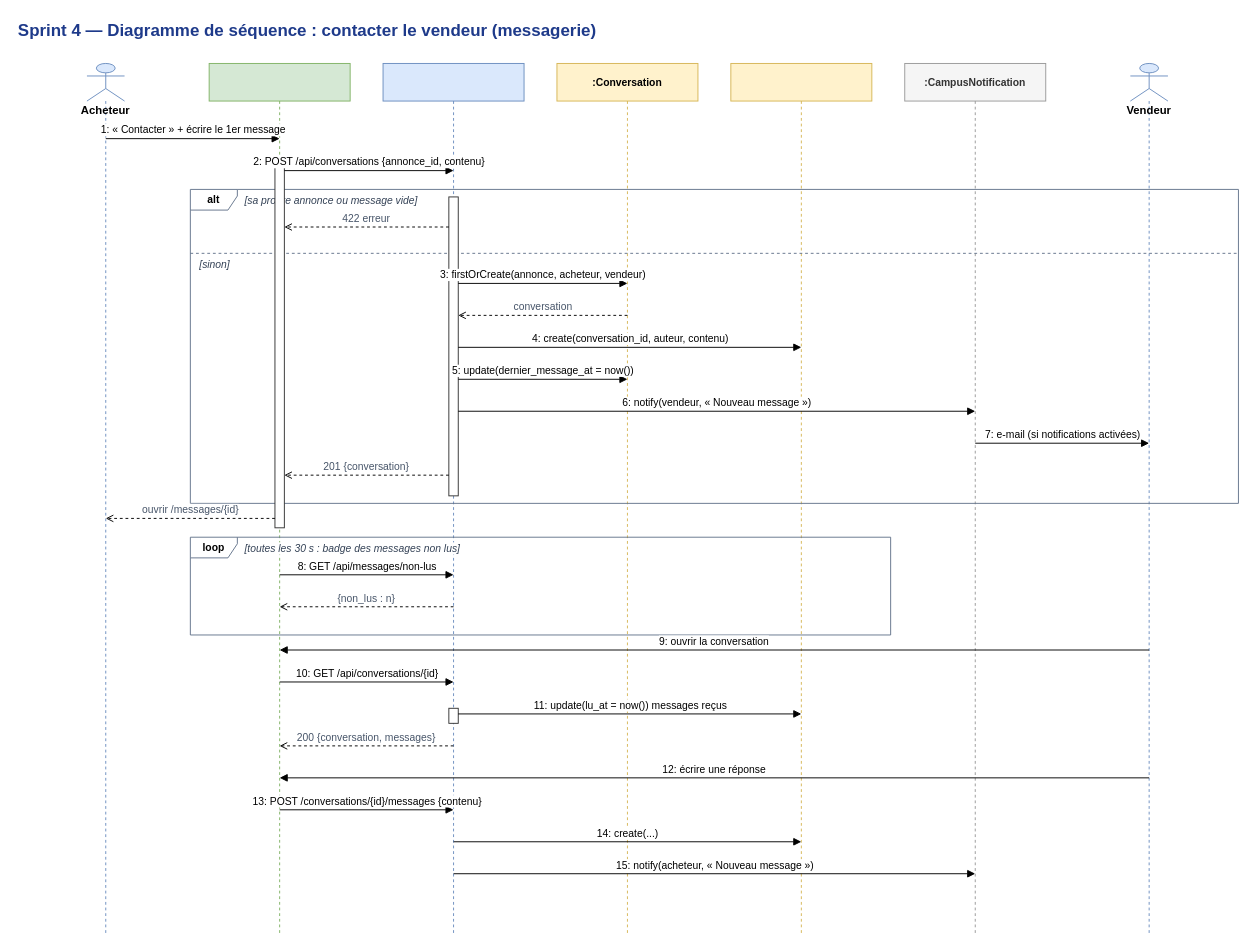
This 1256x950 diagram has some shape labels left out. Each missing label, with the box of its shape:
:ConversationController: (382, 63, 524, 934)
:Interface React (AnnonceDetail / Messages): (208, 63, 350, 934)
:Message: (730, 63, 872, 934)
